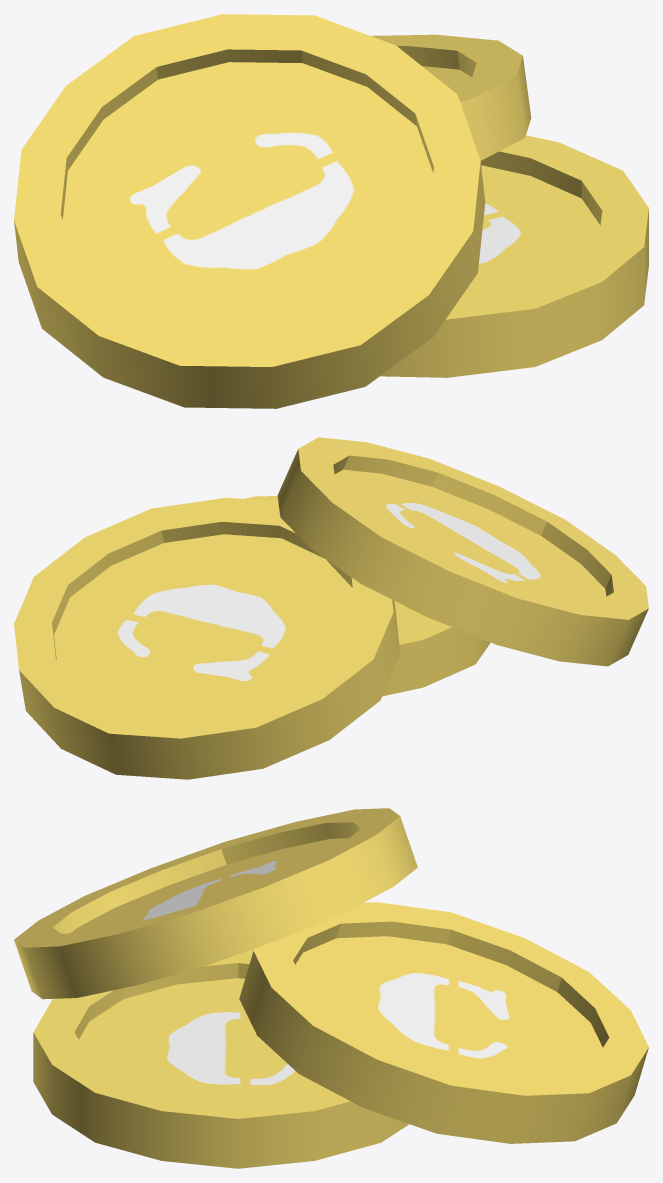
The model's file is Coins.fbx.
The picture shows the model from 3 angles, top to bottom: view 1: azimuth 30°, elevation 25°; view 2: azimuth 150°, elevation 25°; view 3: azimuth 270°, elevation 25°; orthographic projection. The views are drawn at different scales.
Parts seen in each view (by area): view 1: Coin_Stack; view 2: Coin_Stack; view 3: Coin_Stack.
Boxes of the visible parts, box(x1,y1,x2,y2) form: Coin_Stack: box(14, 14, 648, 408); Coin_Stack: box(14, 437, 648, 779); Coin_Stack: box(14, 808, 648, 1168).
Bounding box in the file's own units: 2.32 × 0.9417 × 2.51.
